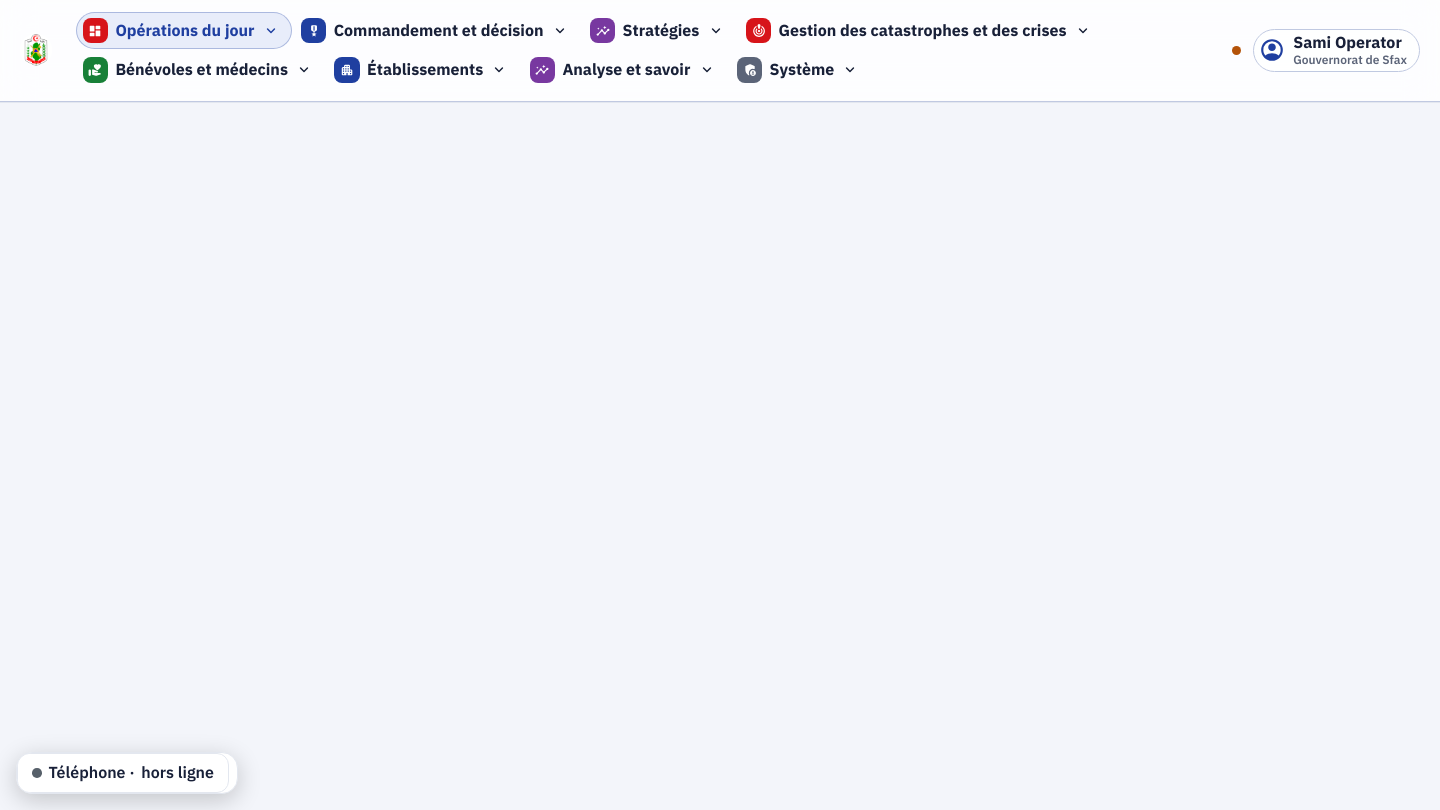
Test: Layout › main_menu: the account menu changes the shape and the position, and remembers them
Expected: the navigation bar named "Navigation principale" is shown, [76,12,1208,89]
Click the button named "Mon compte et réglages" at (1337, 50), box [1253,29,1420,72]
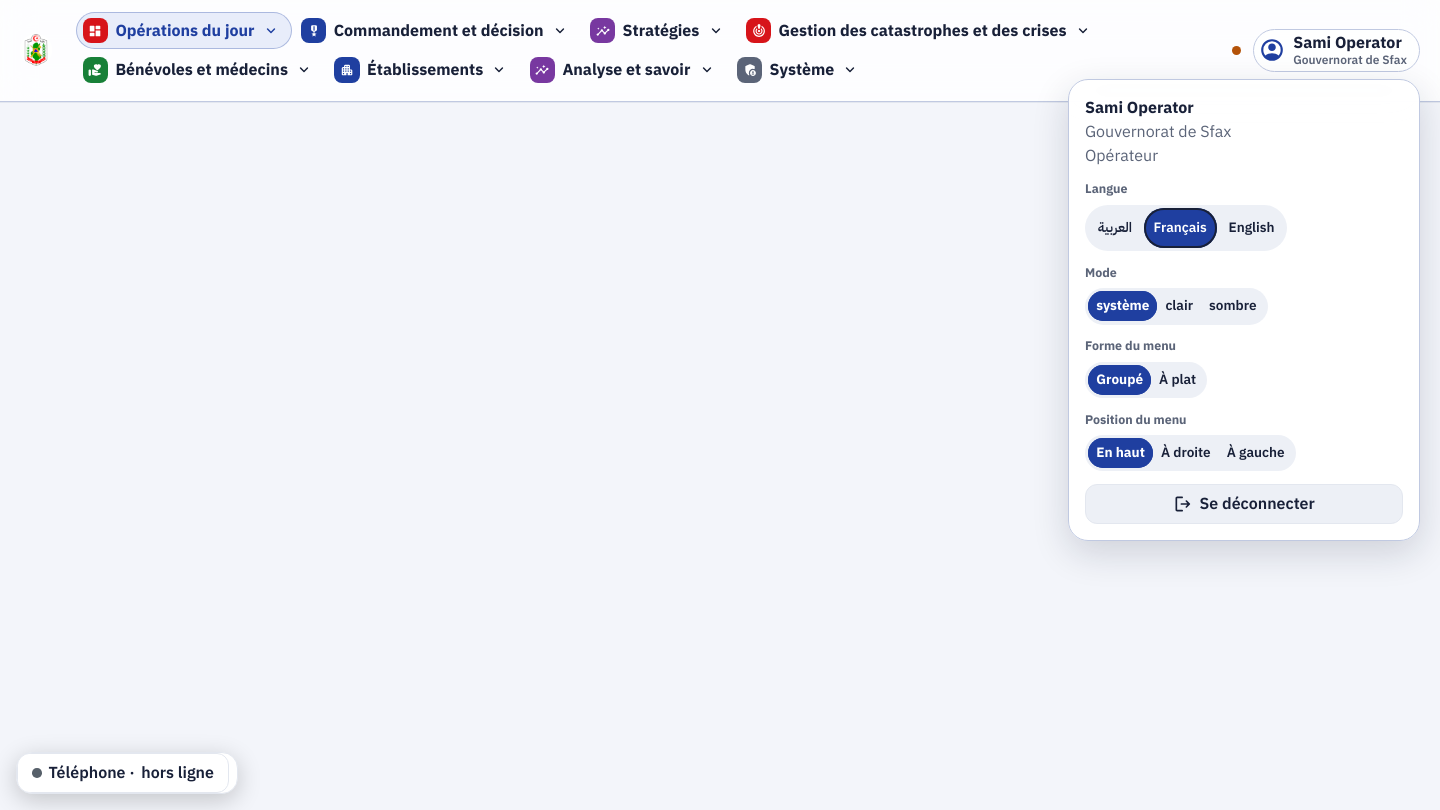
Click the radio button labelled "À plat" at (1178, 379), box [1159,369,1196,390]
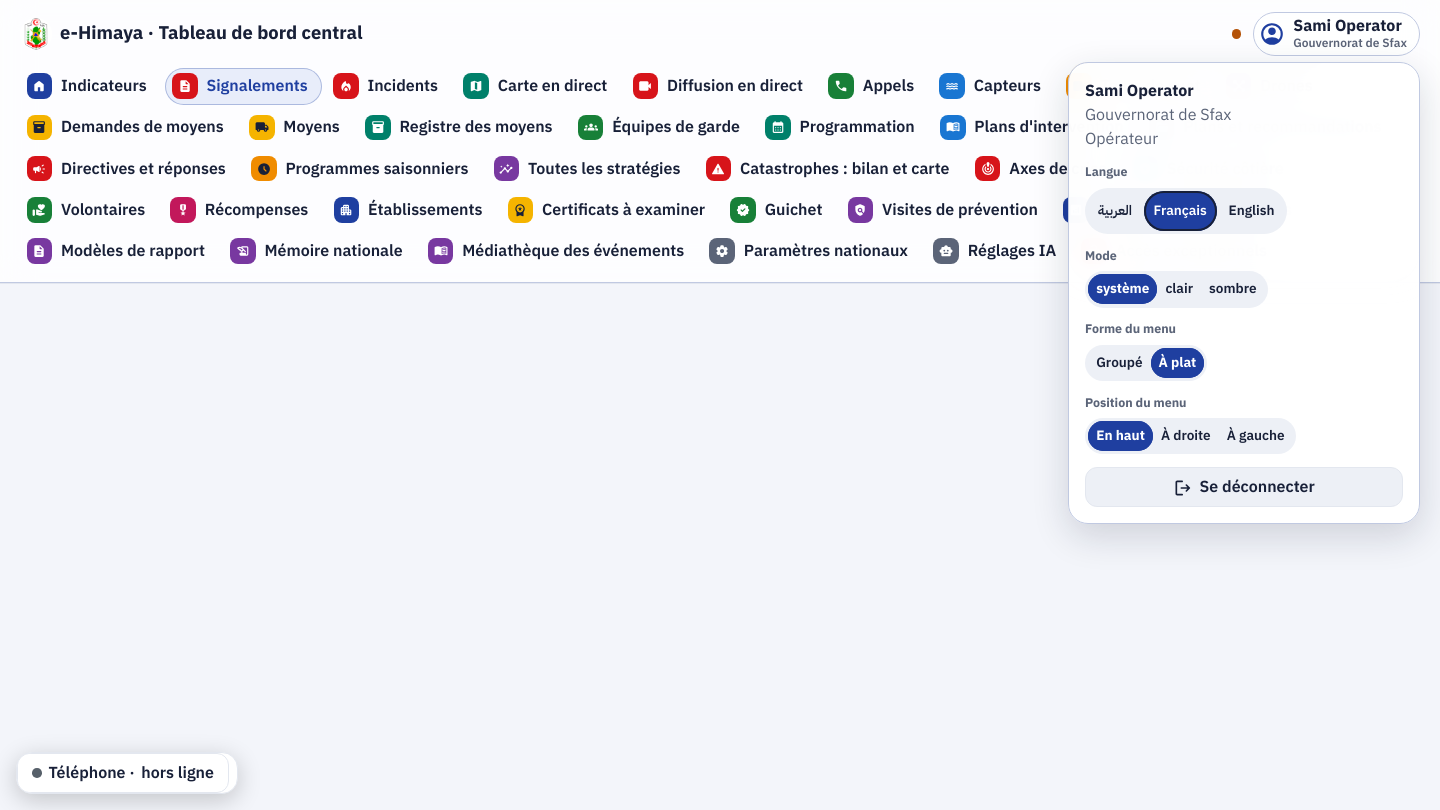
Click the radio button labelled "À droite" at (1186, 436), box [1161,426,1211,446]
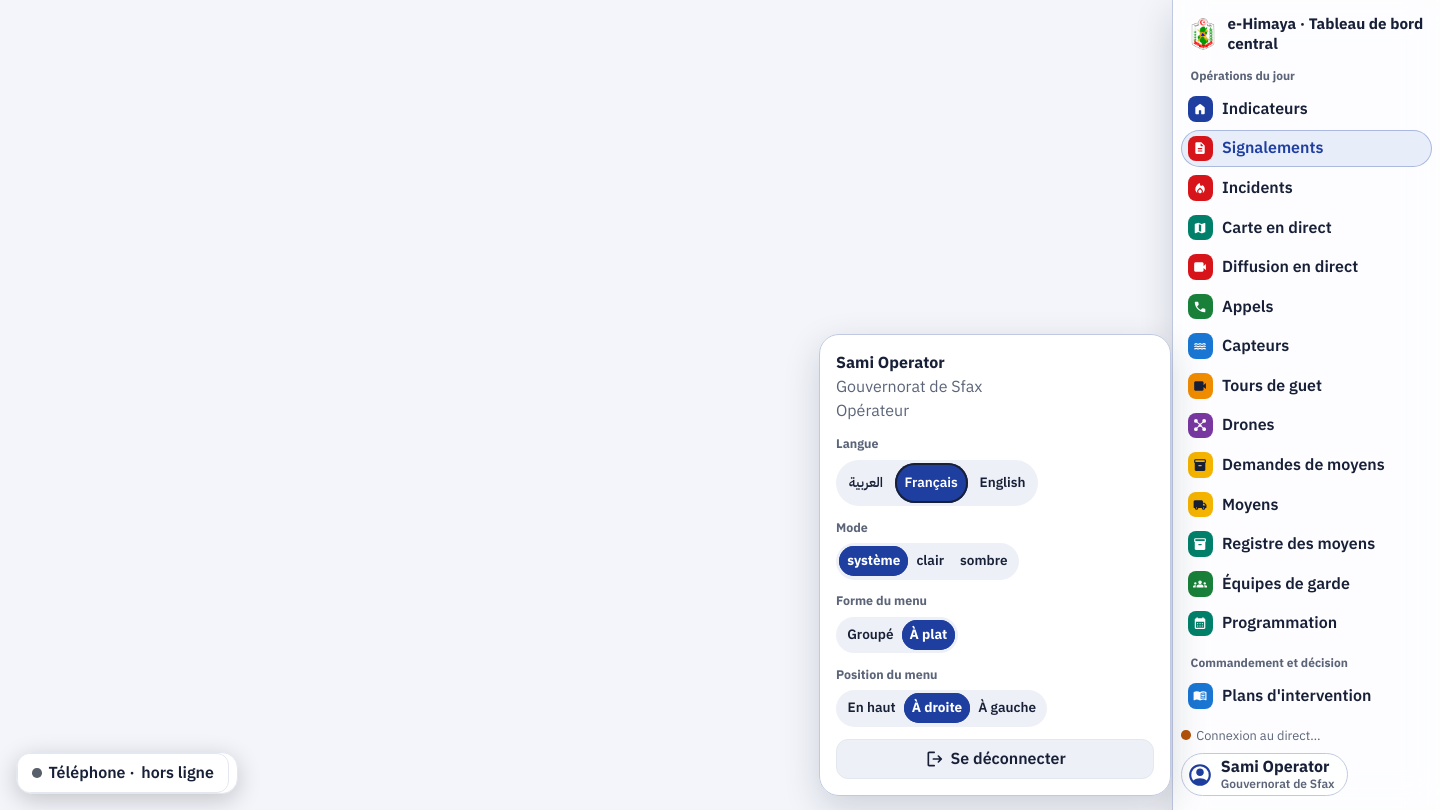
Now the link "Signalements" is shown, box [1181,130,1432,167]
Now the button "Se déconnecter" is shown, box [836,739,1154,779]
Now the element "Opérations du jour" is shown, box [1181,67,1432,642]
